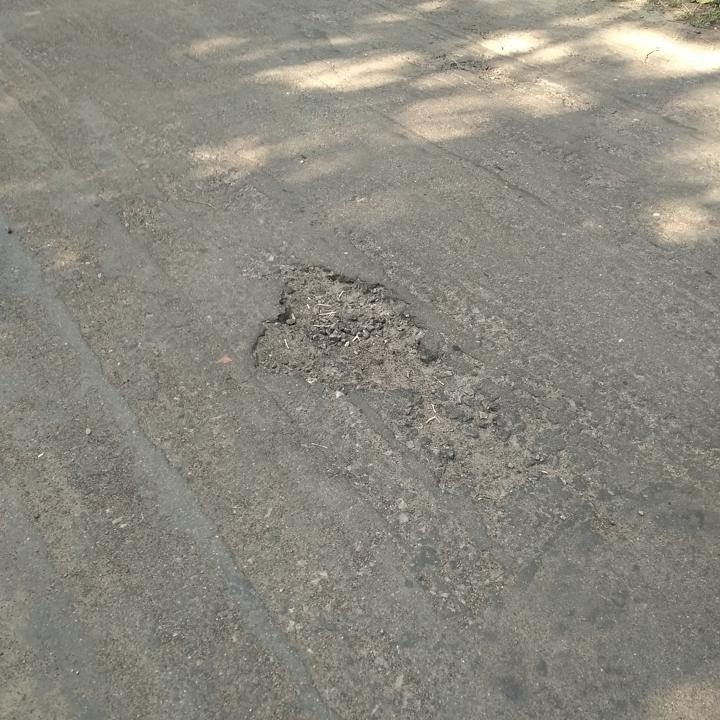pothole: (250, 261, 442, 406), (399, 402, 555, 500), (443, 54, 518, 83)
